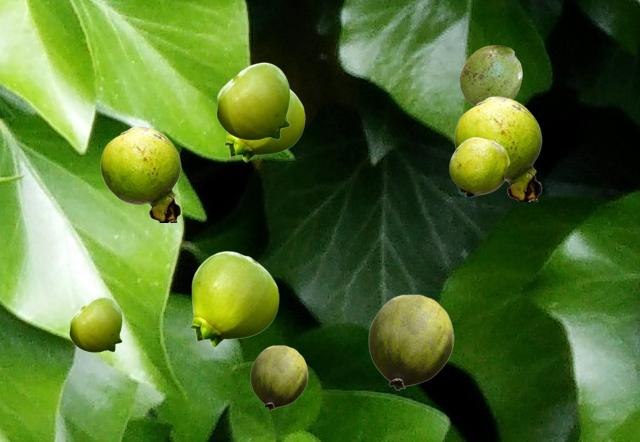guava: (454, 96, 541, 200), (190, 251, 278, 346), (368, 294, 453, 389), (100, 126, 180, 221), (224, 88, 304, 161), (216, 62, 289, 139), (459, 45, 521, 105), (250, 345, 307, 409), (449, 137, 508, 196), (69, 296, 121, 351)
